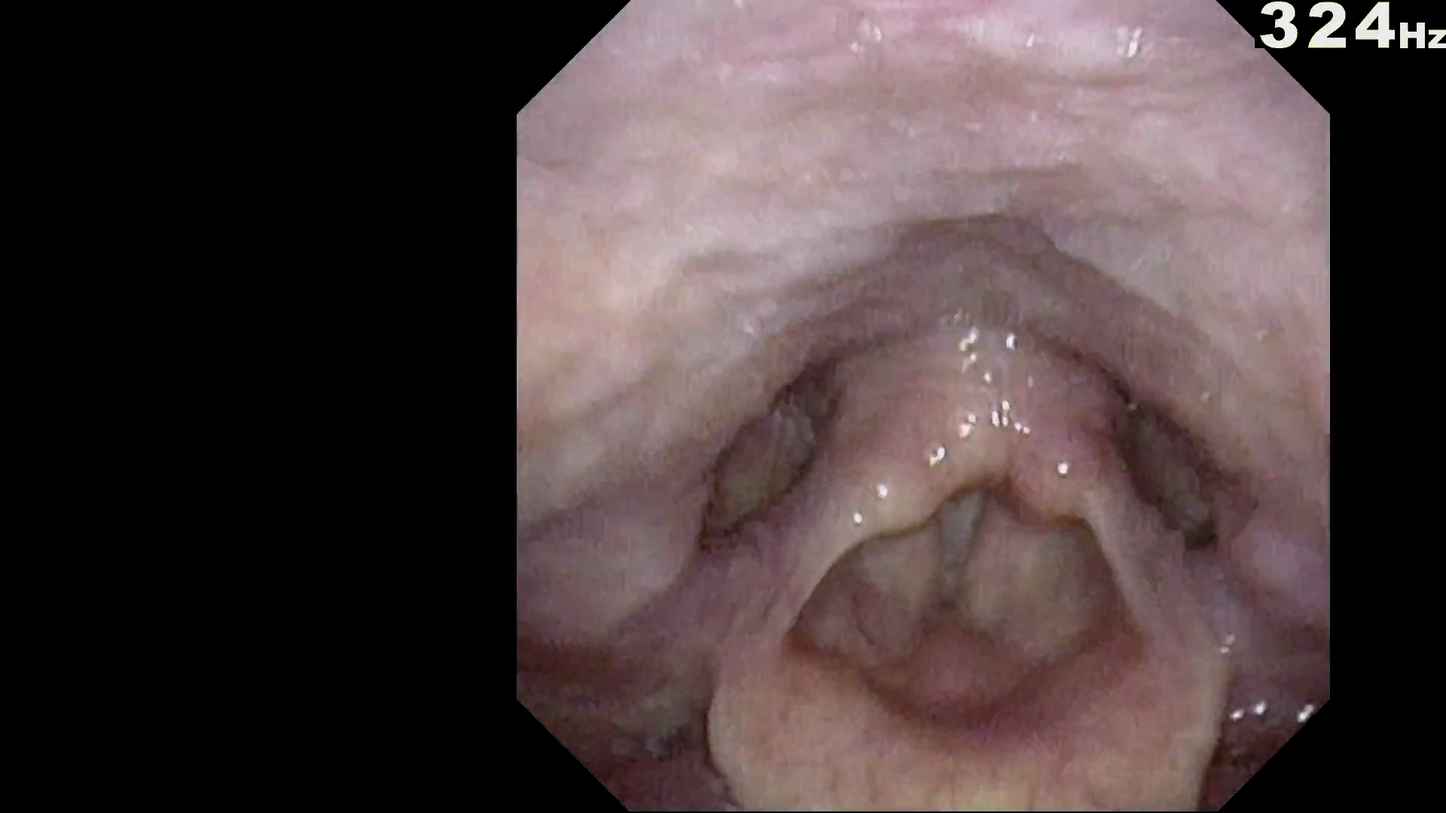epiglottis: (686, 570, 1251, 795)
trachea: (922, 488, 1024, 598)
